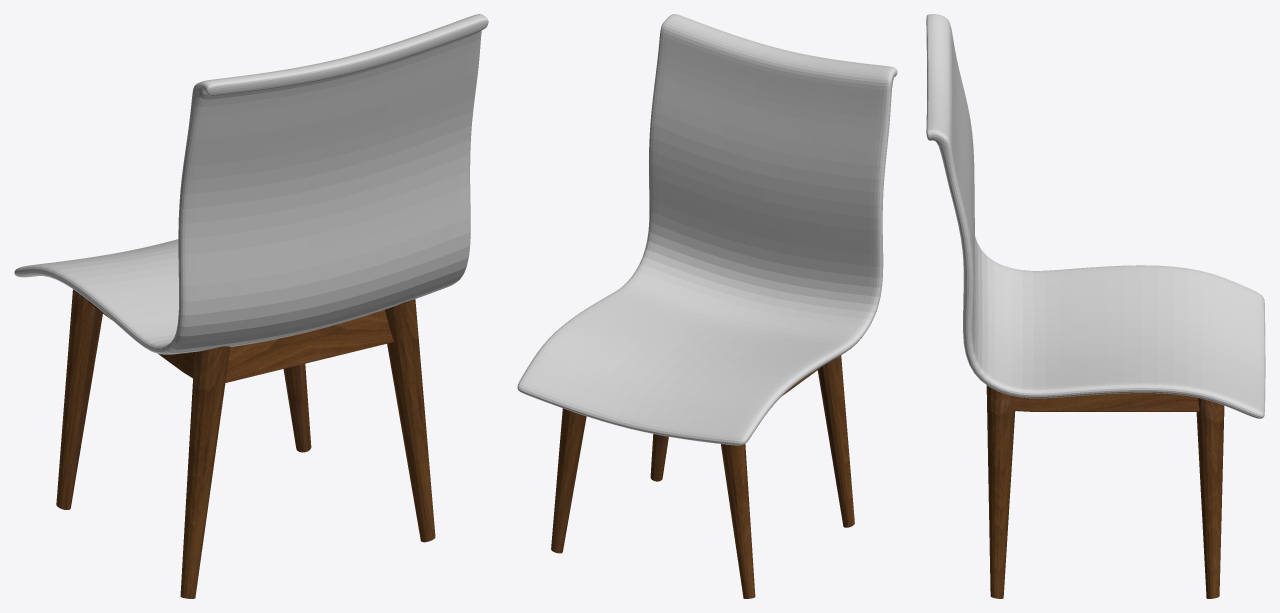
The model's file is scaun1.glb.
The picture shows the model from 3 angles, left to right: view 1: azimuth 30°, elevation 25°; view 2: azimuth 150°, elevation 25°; view 3: azimuth 270°, elevation 25°; orthographic projection. The views are drawn at different scales.
Visible parts, largest first — view 1: Plane, Cylinder, Cube.001; view 2: Plane, Cylinder; view 3: Plane, Cylinder, Cube.
Part boxes in pixels (x1=…): Plane: x1=14, y1=14, x2=488, y2=354; Cylinder: x1=56, y1=289, x2=435, y2=598; Cube.001: x1=225, y1=309, x2=393, y2=382; Plane: x1=517, y1=14, x2=897, y2=445; Cylinder: x1=551, y1=355, x2=854, y2=598; Plane: x1=926, y1=14, x2=1265, y2=418; Cylinder: x1=986, y1=385, x2=1224, y2=598; Cube: x1=1013, y1=393, x2=1199, y2=411.
Bounding box in the file's own units: 1.99 × 3.58 × 2.31.
Materials: 4 (3 with a texture image).
